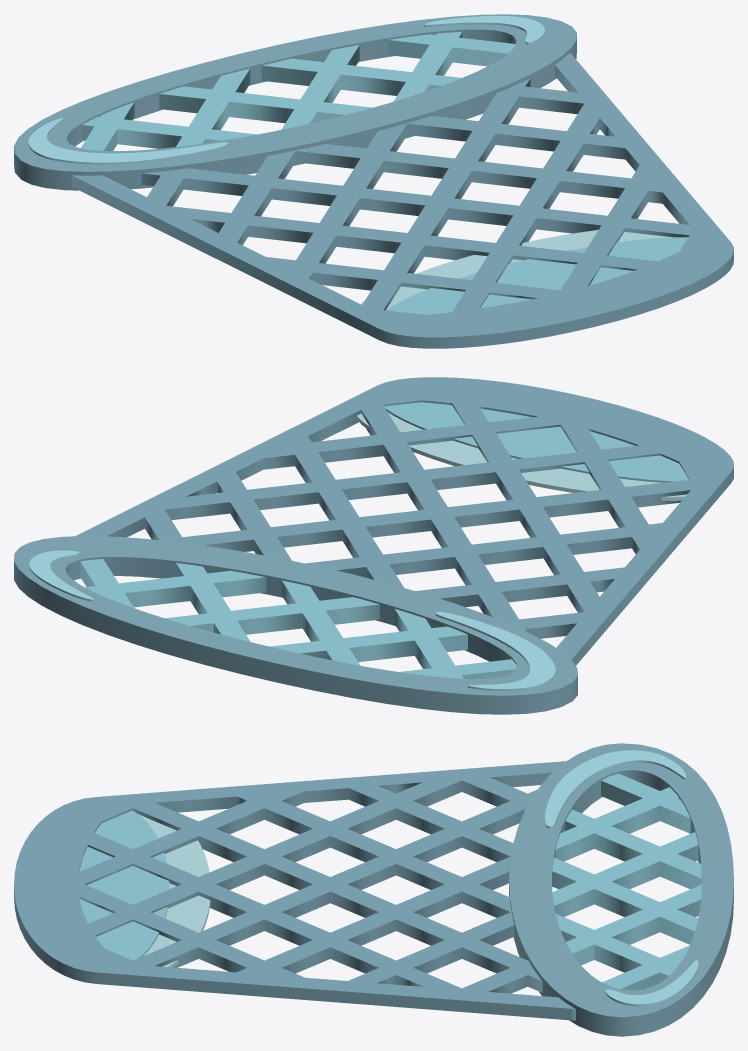
The model's file is emoji_u1f5d1.glb.
3 renders of one model, top to bottom at view 1: azimuth 30°, elevation 25°; view 2: azimuth 150°, elevation 25°; view 3: azimuth 270°, elevation 25°, orthographic.
Parts seen in each view (by area): view 1: emoji_u1f5d1; view 2: emoji_u1f5d1; view 3: emoji_u1f5d1.
Boxes of the visible parts, x1=… form: emoji_u1f5d1: x1=14, y1=14, x2=733, y2=348; emoji_u1f5d1: x1=14, y1=377, x2=733, y2=714; emoji_u1f5d1: x1=14, y1=743, x2=733, y2=1036.
Bounding box in the file's own units: 0.0304 × 0.0012 × 0.0337.
